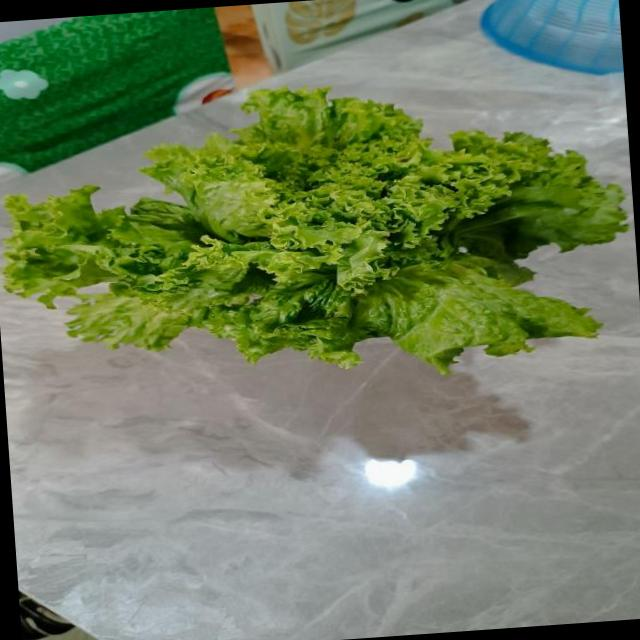Lettuce-Ready-to-Harvest: (4, 88, 627, 370)
